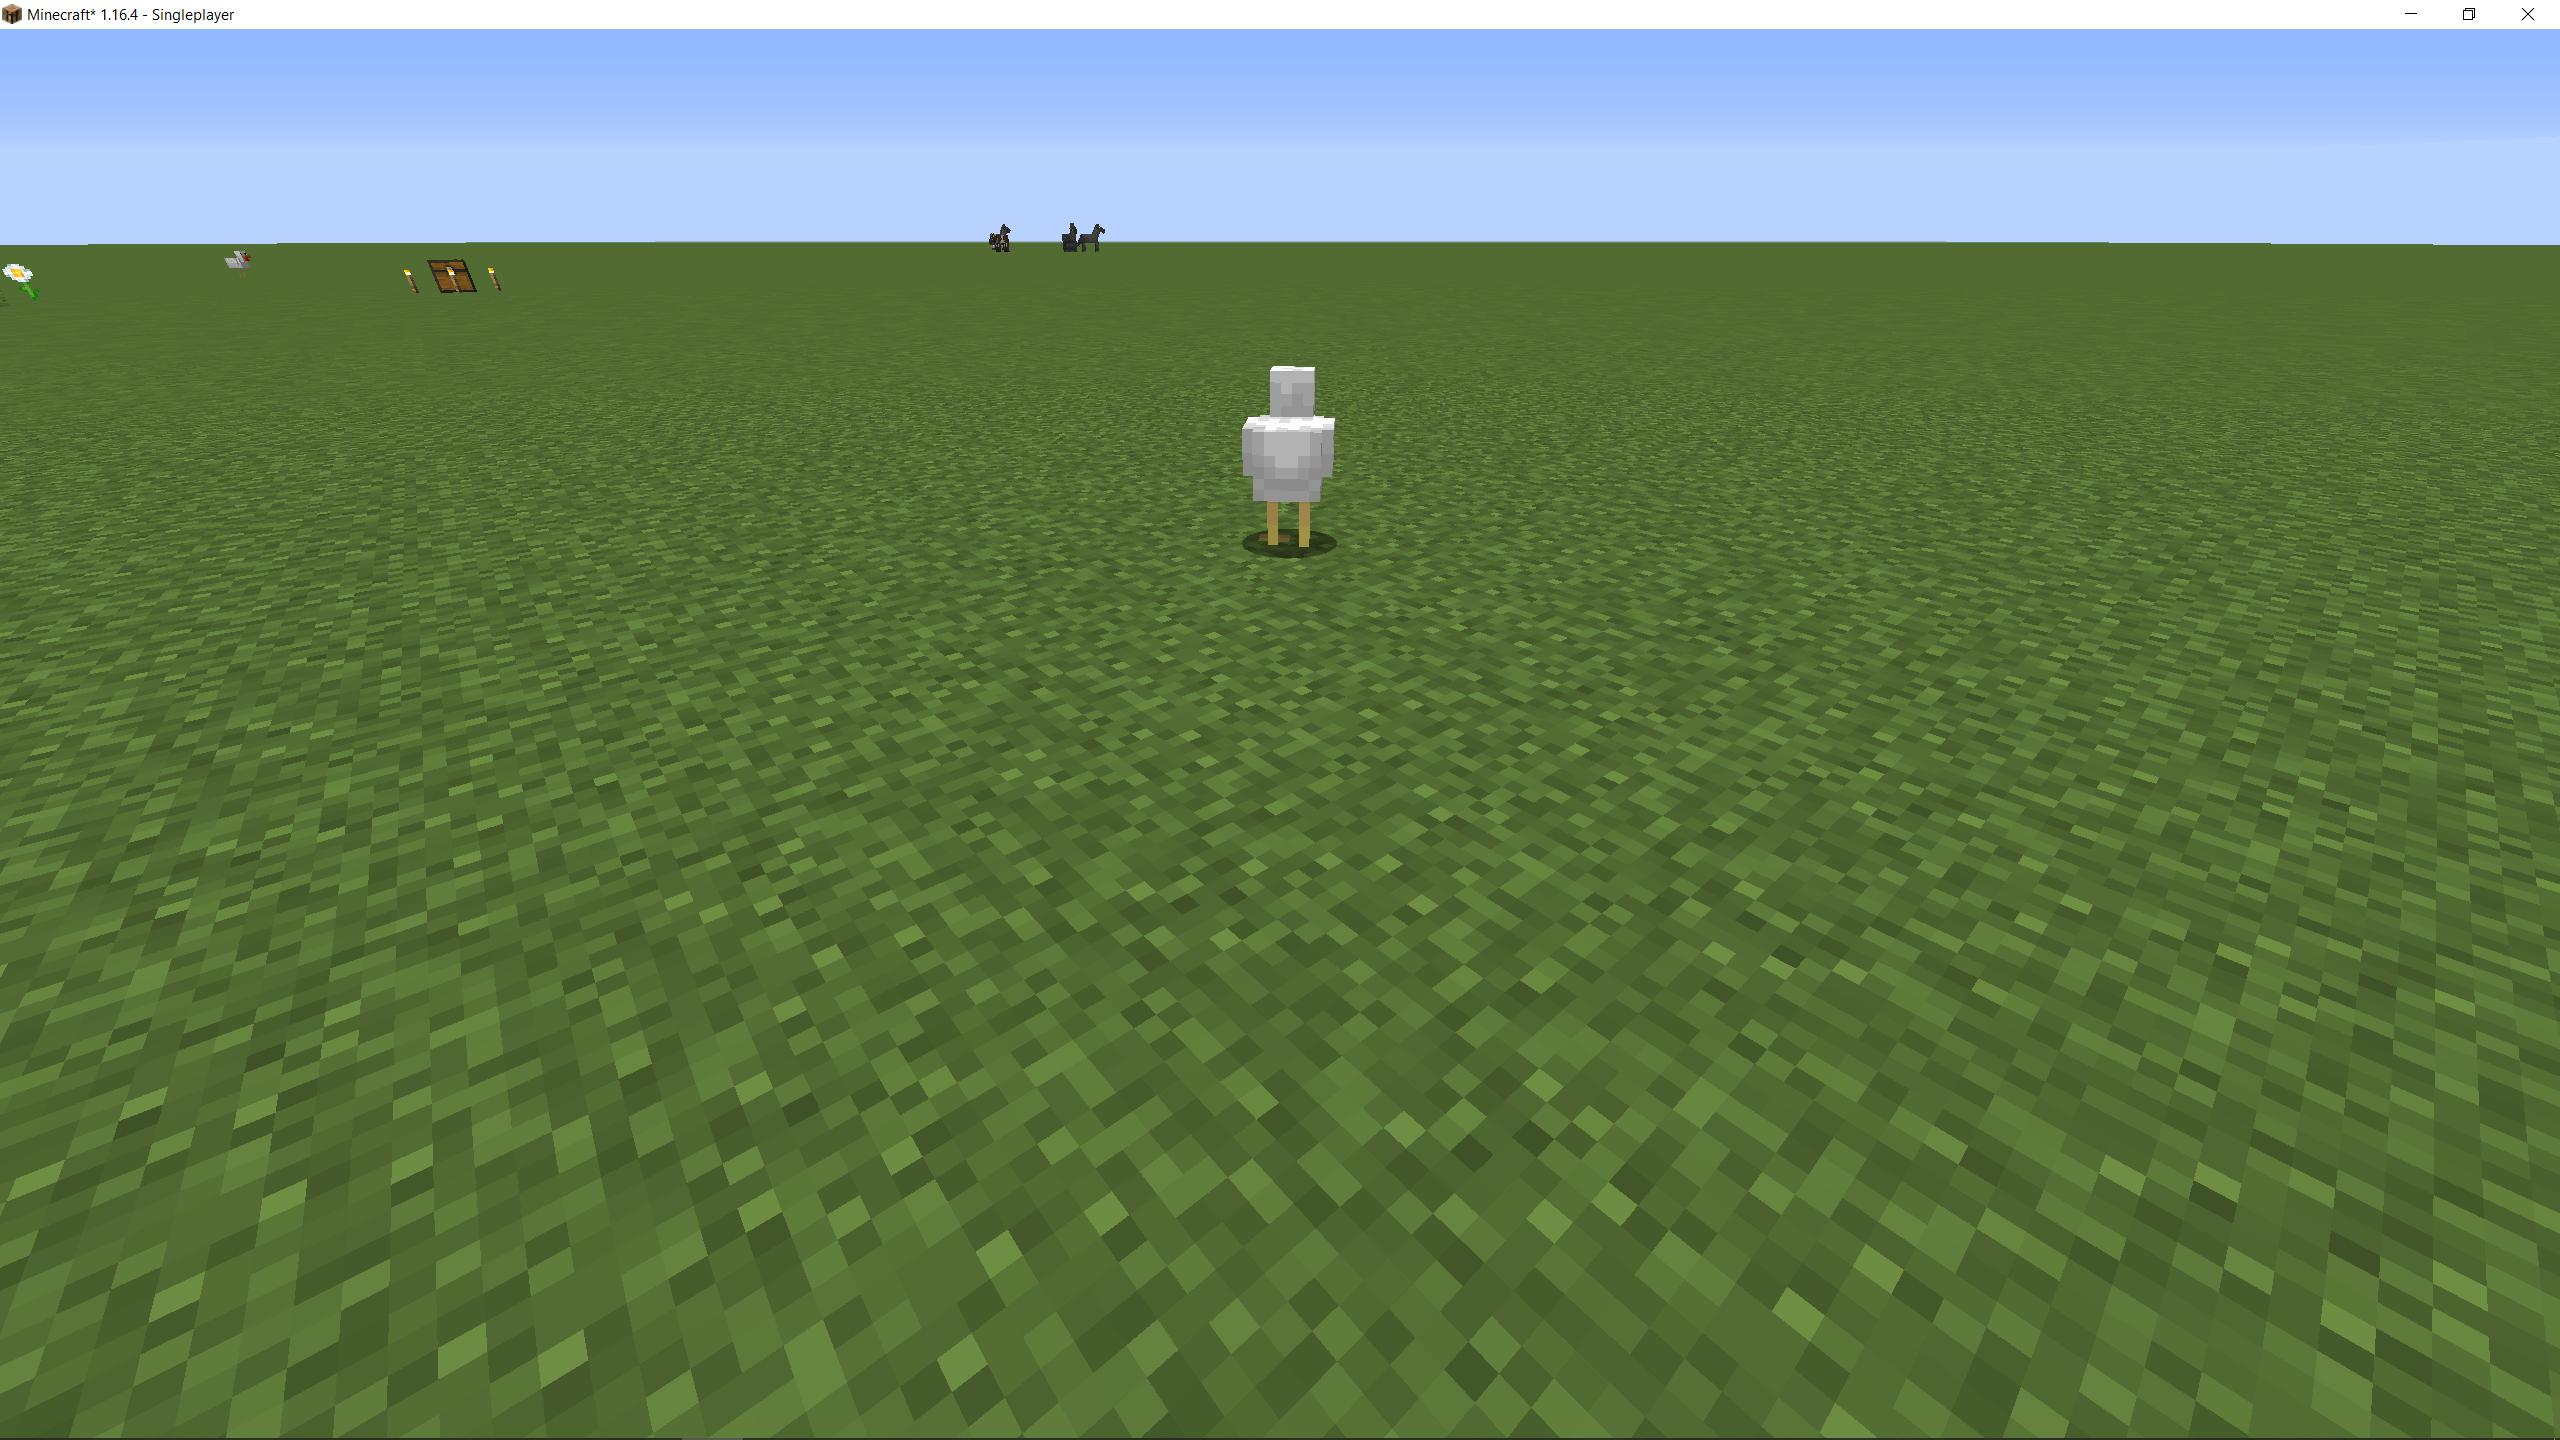chicken: (1240, 352, 1343, 566)
